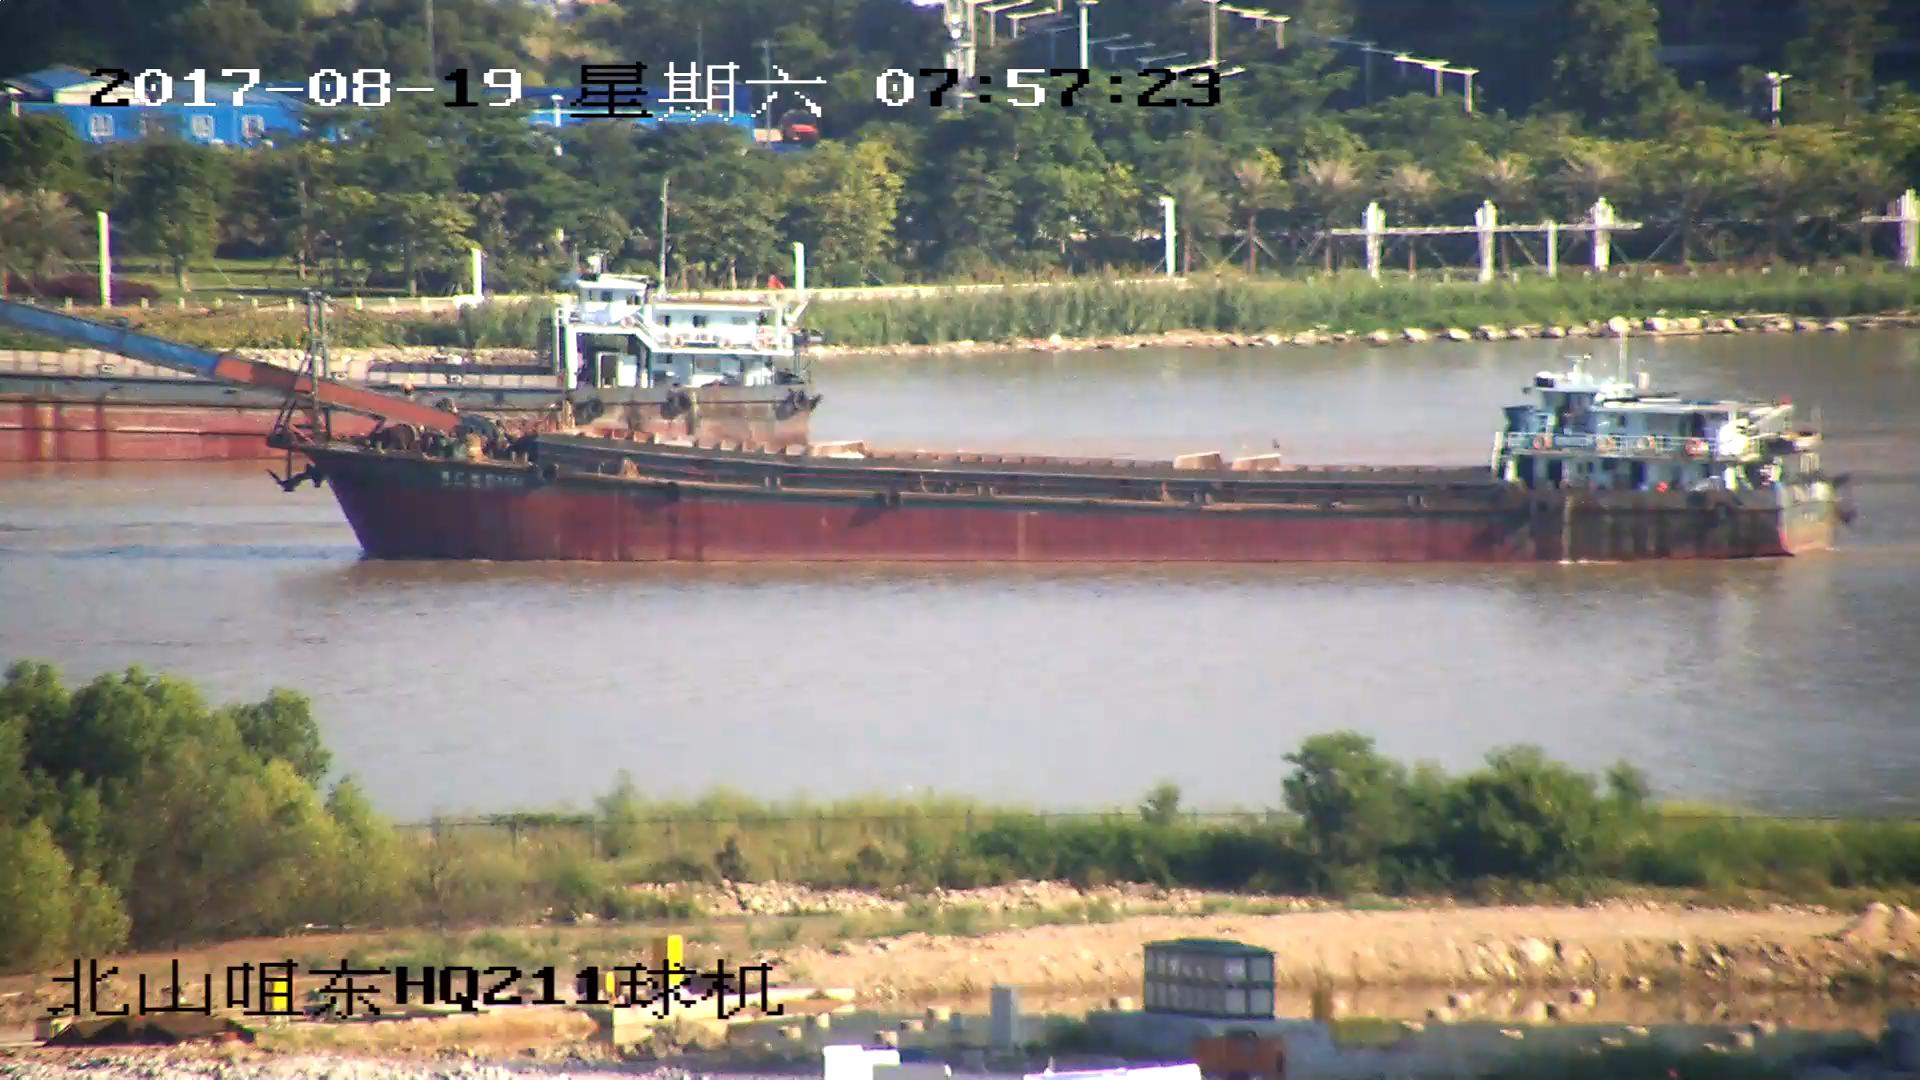bulk cargo carrier: (1, 296, 1846, 559), (1, 258, 820, 438)
